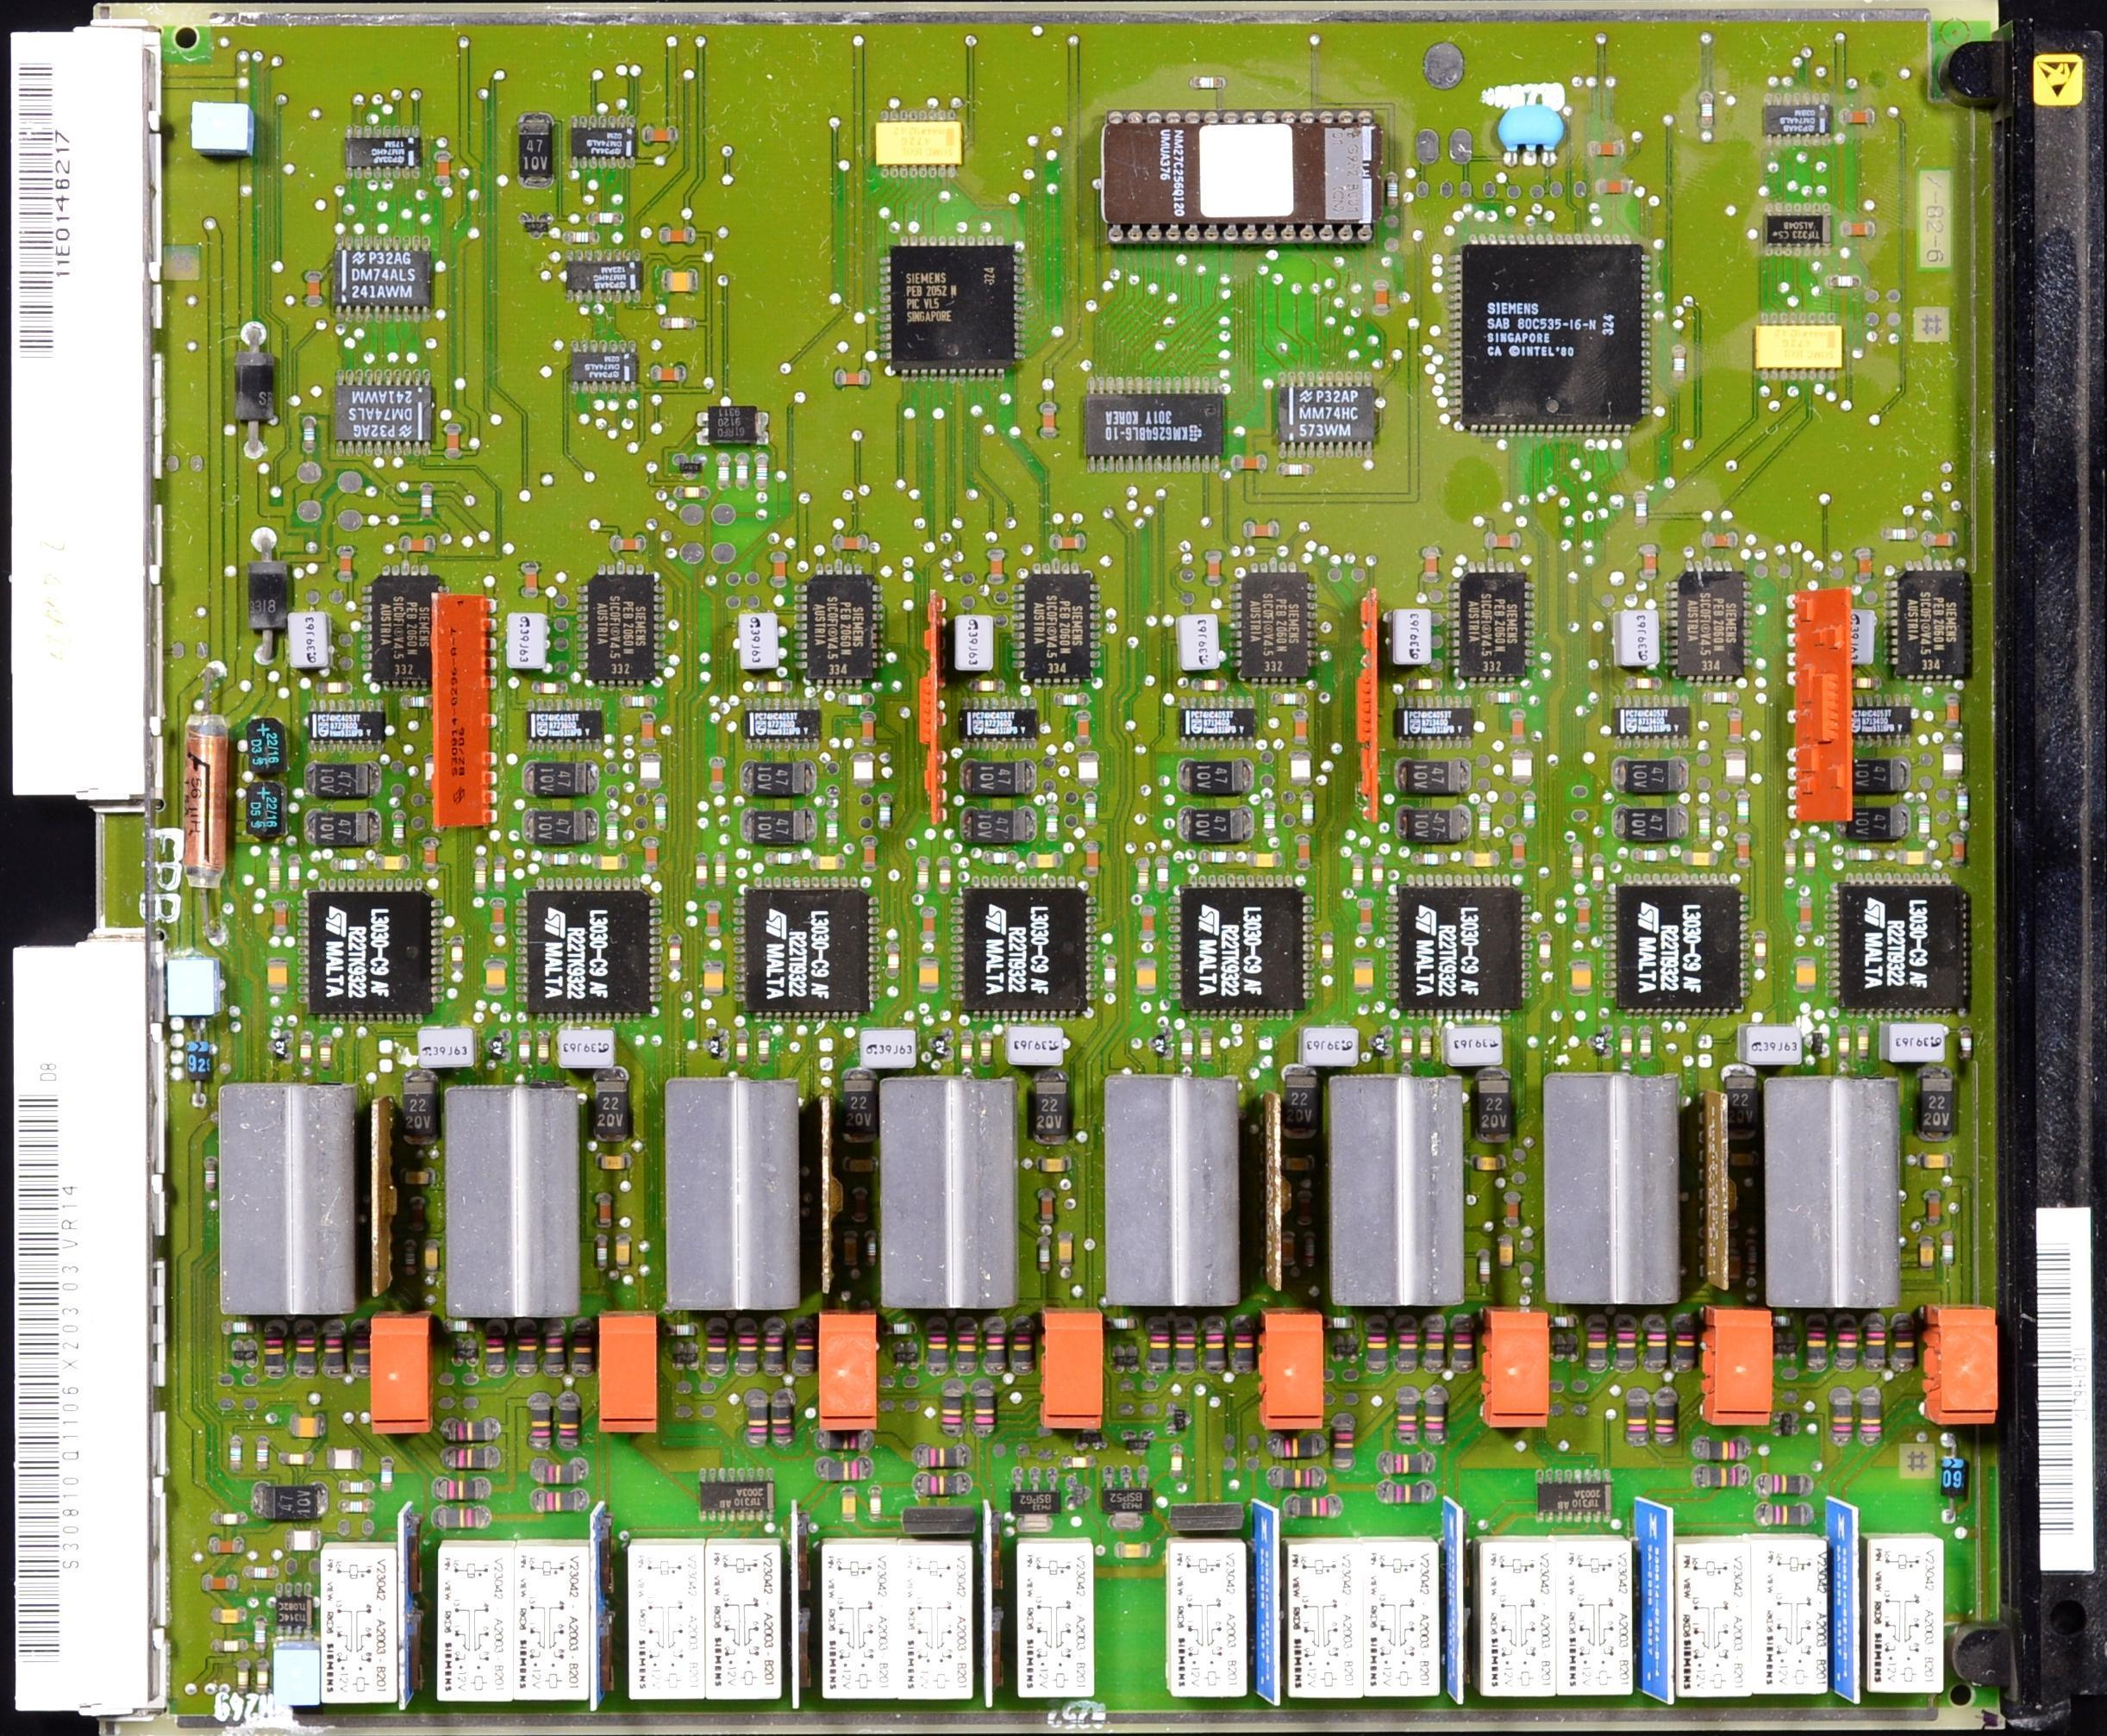Capacitor: (635, 714, 655, 747), (637, 125, 672, 142), (638, 836, 656, 865), (268, 912, 286, 940), (984, 546, 999, 578), (1079, 844, 1097, 870), (1639, 543, 1655, 571), (1076, 717, 1091, 745), (862, 841, 881, 864), (422, 842, 437, 871), (1725, 708, 1737, 740), (1050, 537, 1081, 549), (1574, 900, 1587, 928), (705, 904, 718, 933), (1135, 908, 1148, 935), (1422, 555, 1435, 580), (1204, 556, 1216, 582), (1845, 109, 1872, 122), (710, 758, 722, 786), (1489, 534, 1516, 545), (624, 534, 649, 546), (767, 562, 782, 582), (1706, 530, 1735, 540), (1798, 902, 1806, 934), (1855, 555, 1866, 581), (306, 277, 318, 298), (339, 556, 352, 576), (1952, 840, 1964, 860), (1593, 143, 1618, 153), (1298, 845, 1308, 870), (1925, 1202, 1938, 1220), (1927, 534, 1948, 545), (403, 534, 424, 544), (1944, 708, 1959, 722), (1041, 409, 1051, 430), (1294, 718, 1304, 740), (660, 229, 684, 238), (832, 535, 855, 544), (862, 726, 874, 742), (921, 915, 931, 934), (1597, 183, 1620, 191), (1360, 908, 1368, 929), (1845, 223, 1866, 232), (440, 158, 447, 184), (1513, 840, 1521, 862), (831, 373, 854, 380), (1243, 524, 1264, 532), (1518, 718, 1525, 737), (1239, 457, 1255, 465)
IC: (1454, 241, 1681, 441), (300, 881, 462, 1027), (1064, 367, 1233, 493), (517, 888, 666, 1026), (737, 884, 894, 1015), (1166, 889, 1329, 1015), (1832, 878, 1984, 1012), (878, 241, 1027, 377), (953, 884, 1098, 1017), (1610, 885, 1748, 1017), (1399, 885, 1533, 1015), (1270, 367, 1407, 493), (358, 562, 465, 694), (1670, 550, 1770, 689), (578, 552, 672, 690), (799, 562, 893, 696), (1877, 564, 1979, 684), (1444, 574, 1546, 691), (1232, 574, 1319, 694), (1023, 571, 1102, 690), (345, 388, 422, 434), (351, 251, 415, 296), (1763, 95, 1826, 134), (303, 707, 375, 738), (1764, 200, 1823, 237), (964, 702, 1027, 736), (709, 1477, 766, 1513), (347, 134, 409, 167), (1612, 703, 1673, 735), (1542, 1486, 1604, 1517), (1107, 1481, 1148, 1526), (1185, 705, 1248, 734), (566, 256, 623, 286), (1408, 701, 1455, 734), (539, 711, 591, 738), (1849, 709, 1895, 735), (579, 127, 622, 154), (576, 354, 621, 376), (752, 715, 801, 731), (276, 1600, 303, 1620)
Resistor: (561, 233, 585, 242), (303, 424, 313, 443), (590, 211, 611, 219)
